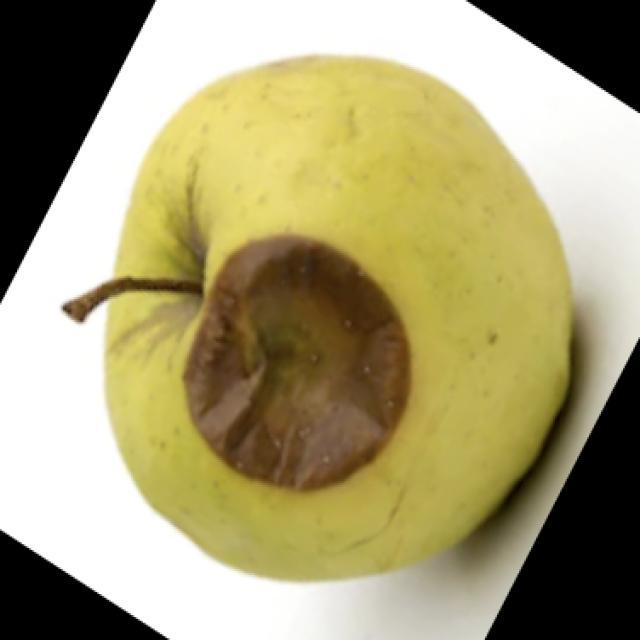Rotten: (92, 37, 573, 600)
